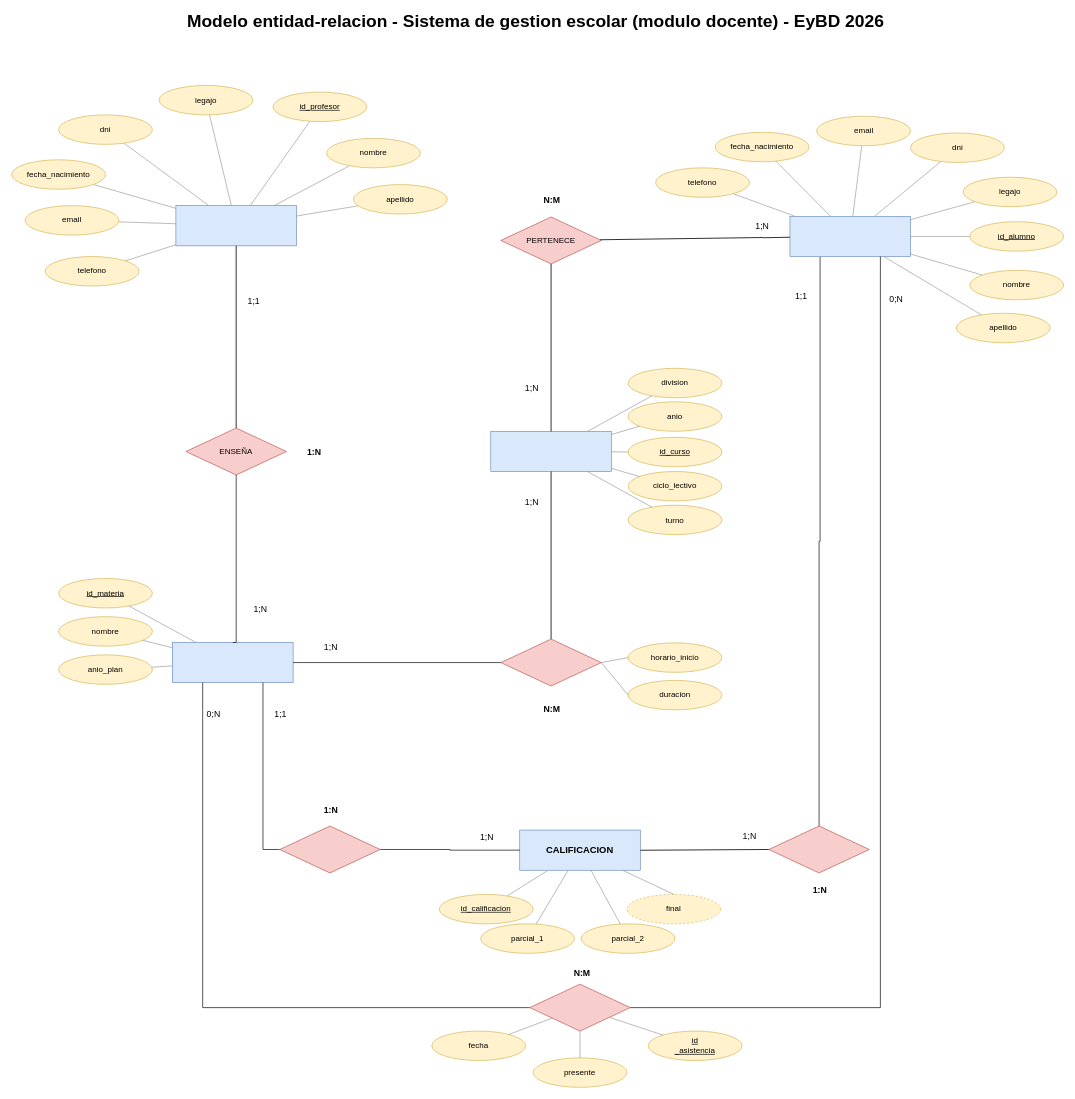
Image size: 1075x1099. Some labels were removed from this diagram. Here are the shapes that lost their labels. From the top down, the centre of each, then its label:
At pixel 235 225: "PROFESOR".
At pixel 850 236: "ALUMNO".
At pixel 550 451: "CURSO".
At pixel 232 662: "MATERIA".
At pixel 550 662: "CONTIENE".
At pixel 329 849: "TIENE".
At pixel 818 849: "RINDE".
At pixel 579 1007: "ASISTE".
